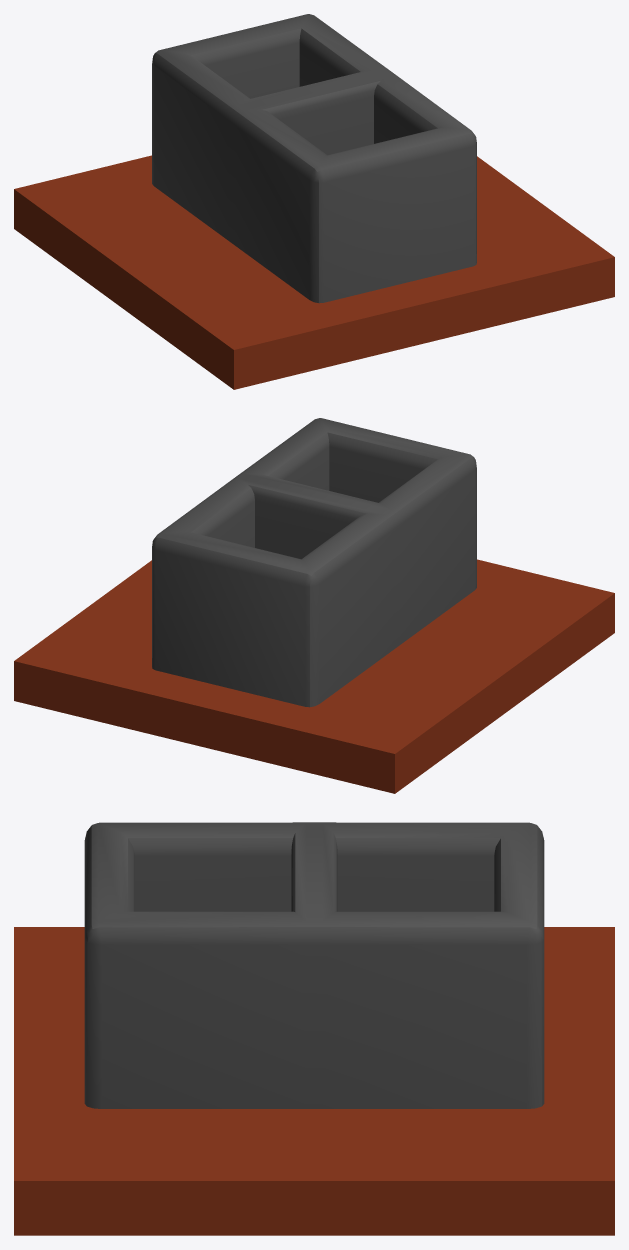
Rendered from Briket.fbx.
3 renders of one model, top to bottom at view 1: azimuth 30°, elevation 25°; view 2: azimuth 150°, elevation 25°; view 3: azimuth 270°, elevation 25°, orthographic. The views are drawn at different scales.
Visible parts, largest first — view 1: Cube.001, Cube; view 2: Cube.001, Cube; view 3: Cube.001, Cube.
Boxes of the visible parts, x1,y1,x2,y2 form: Cube.001: [152, 14, 476, 303]; Cube: [14, 155, 614, 389]; Cube.001: [152, 418, 476, 707]; Cube: [14, 559, 614, 793]; Cube.001: [84, 822, 544, 1108]; Cube: [14, 927, 614, 1235].
Bounding box in the file's own units: 100 × 43.34 × 100.
